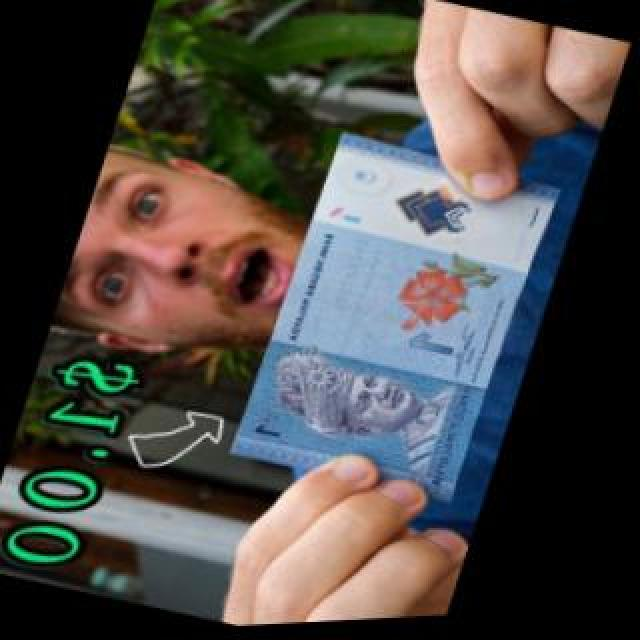1 Ringgit: (228, 116, 574, 523)
